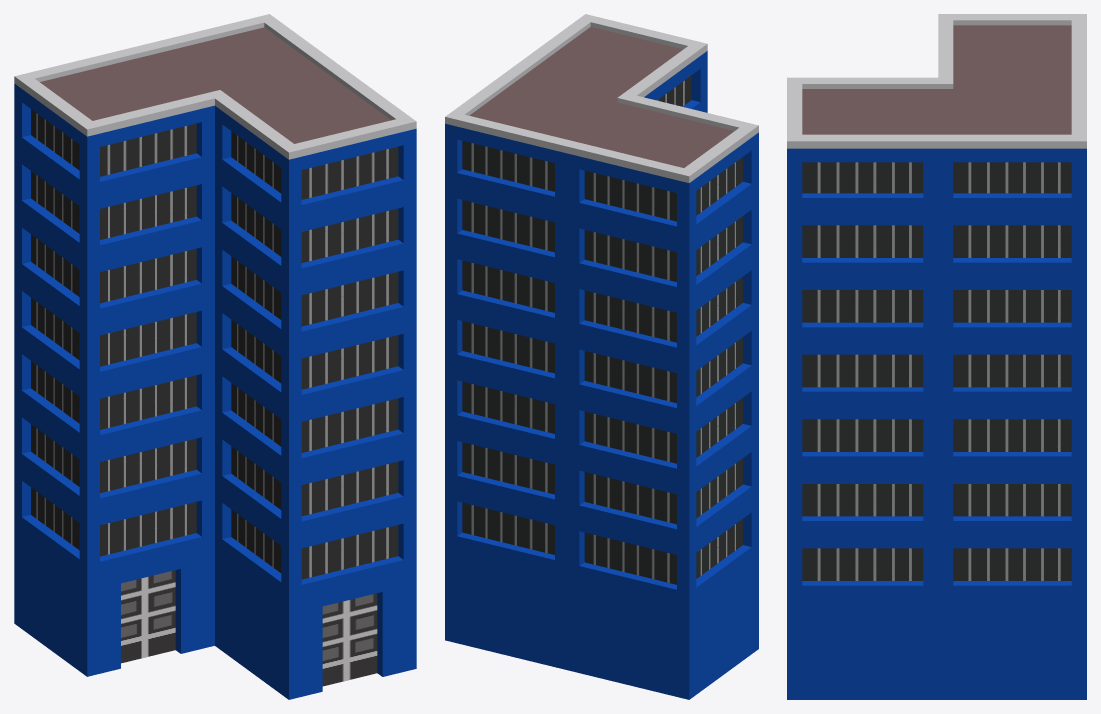
The model's file is building20b.FBX.
3 views of the same model, side by side, from view 1: azimuth 30°, elevation 25°; view 2: azimuth 150°, elevation 25°; view 3: azimuth 270°, elevation 25° (orthographic). The views are drawn at different scales.
Parts seen in each view (by area): view 1: building20b; view 2: building20b; view 3: building20b.
Part boxes in pixels (box(x1,y1,x2,y2)): building20b: box(14, 14, 416, 699); building20b: box(445, 14, 758, 699); building20b: box(787, 14, 1086, 699).
Bounding box in the file's own units: 19.9 × 40.77 × 19.82.
